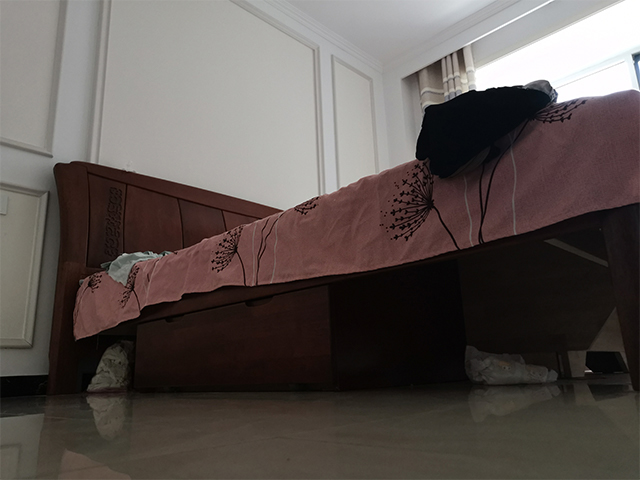bed: (46, 90, 637, 392)
